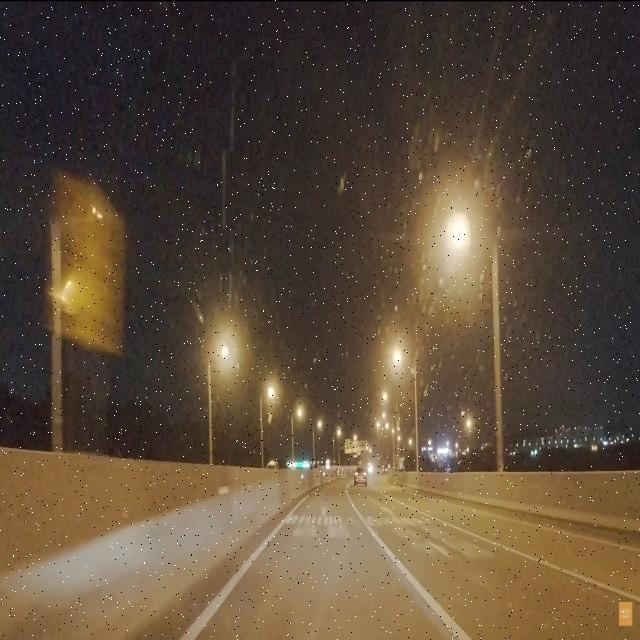forward: (282, 500, 365, 515)
